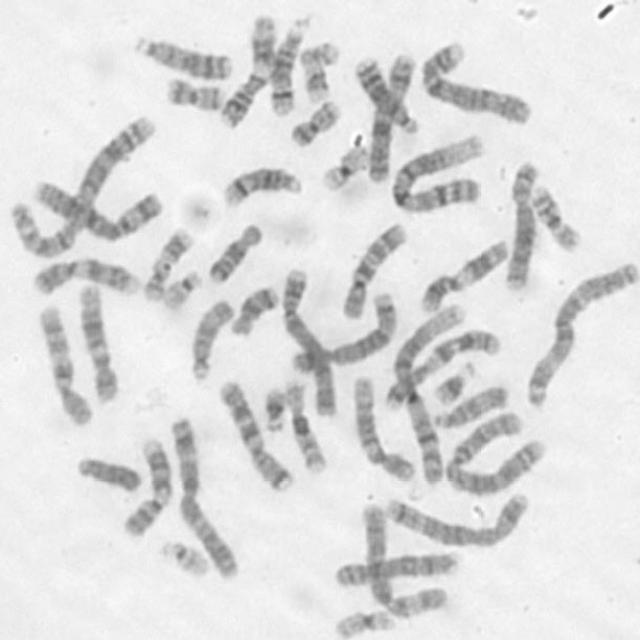A1: (391, 302, 471, 485), (391, 132, 486, 213)
A2: (9, 115, 155, 262), (442, 407, 548, 500)
A3: (523, 260, 640, 412), (168, 414, 240, 578)
B4: (418, 39, 534, 127), (280, 268, 341, 420)
B5: (288, 290, 399, 375), (383, 488, 529, 550)
C10: (37, 298, 95, 428), (339, 220, 407, 322)
C11: (418, 235, 506, 317), (218, 12, 278, 132)
C12: (351, 377, 418, 485), (76, 281, 120, 407)
C6: (356, 498, 449, 622), (30, 178, 163, 244)
C7: (383, 329, 503, 413), (215, 376, 296, 494)
C8: (366, 49, 417, 185), (503, 161, 542, 292)
C9: (32, 254, 144, 303), (122, 435, 175, 537)
D13: (354, 54, 422, 135), (133, 32, 234, 82)
D14: (270, 12, 312, 118), (225, 167, 305, 207)
D15: (188, 298, 234, 382), (431, 385, 514, 431)
E16: (286, 378, 330, 474), (528, 184, 585, 255)
E17: (144, 226, 197, 301), (299, 38, 343, 104)
E18: (206, 222, 264, 286), (229, 283, 280, 338)
F19: (322, 146, 368, 192), (332, 608, 397, 640)
F20: (292, 98, 340, 149), (164, 73, 225, 112)
G21: (431, 359, 477, 408), (262, 387, 288, 436)
G22: (159, 540, 211, 581), (155, 270, 201, 311)
X: (330, 547, 462, 589)
Y: (75, 453, 144, 495)
